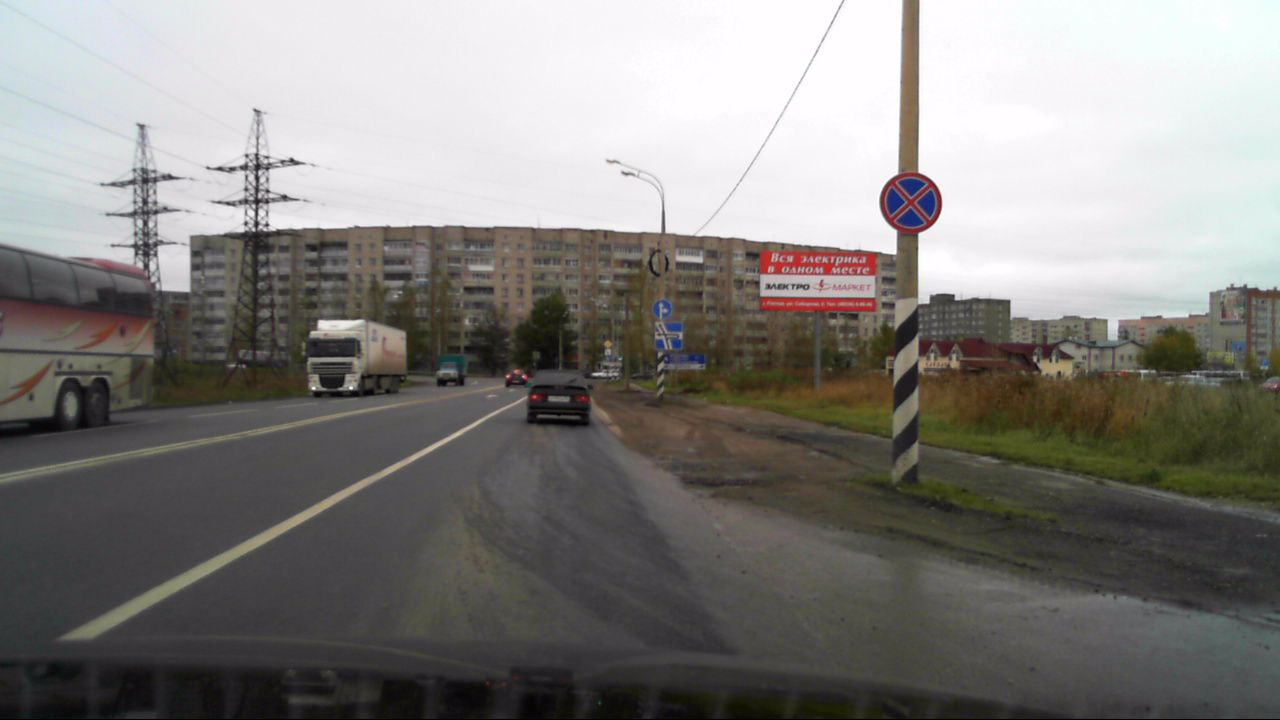No Parking: (878, 174, 942, 235)
